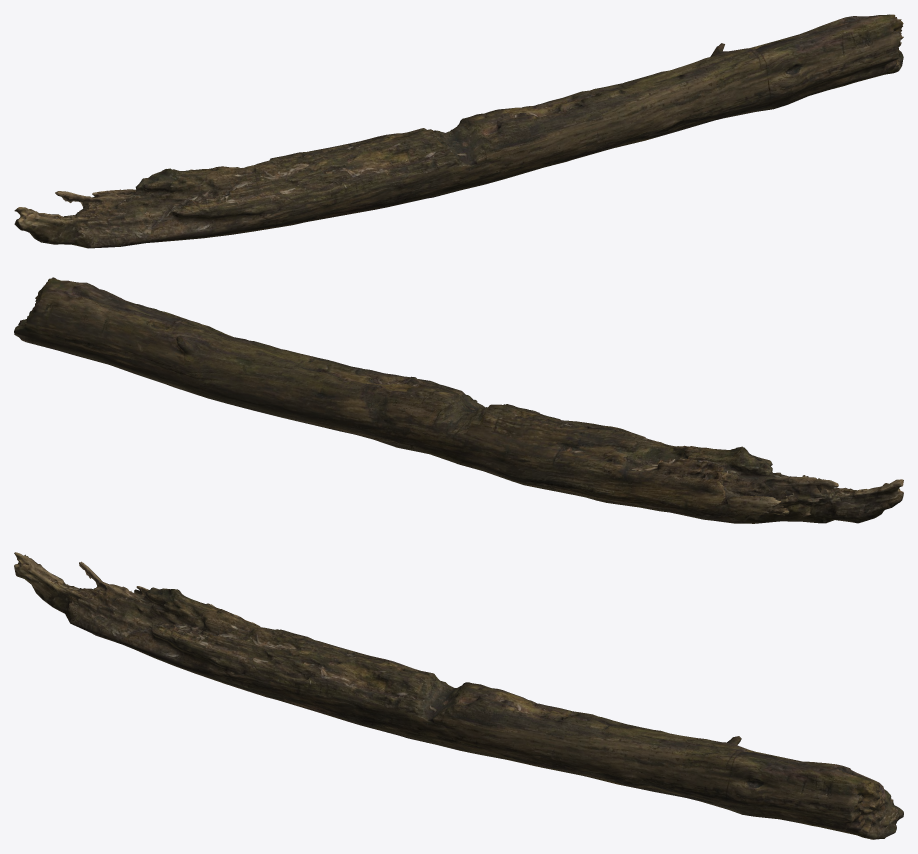
Rendered from dead_tree_trunk.glb.
3 renders of one model, top to bottom at view 1: azimuth 30°, elevation 25°; view 2: azimuth 150°, elevation 25°; view 3: azimuth 330°, elevation 25°, orthographic.
Parts seen in each view (by area): view 1: dead_tree_trunk; view 2: dead_tree_trunk; view 3: dead_tree_trunk.
Boxes of the visible parts, left/top/right/bottom form: dead_tree_trunk: left=14, top=14, right=903, bottom=248; dead_tree_trunk: left=14, top=277, right=903, bottom=523; dead_tree_trunk: left=14, top=552, right=903, bottom=839.
Bounding box in the file's own units: 3.05 × 0.2898 × 0.2775.
1 material, 1 textured.
